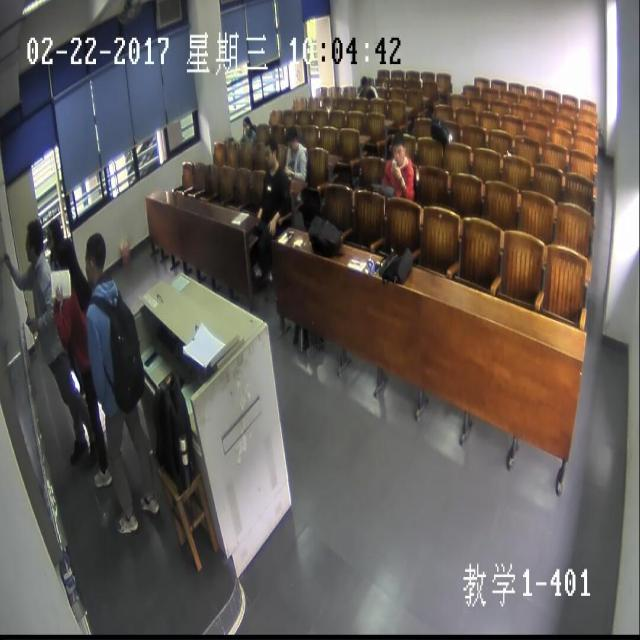no_helmet: (81, 234, 107, 282), (23, 217, 42, 260), (52, 238, 75, 272), (46, 215, 61, 253), (263, 133, 279, 168), (390, 134, 405, 164), (285, 125, 298, 150), (240, 114, 252, 134), (359, 72, 370, 92)
